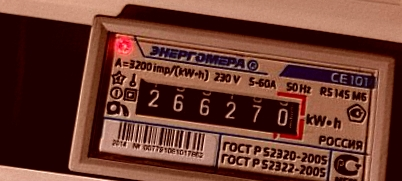0: (275, 106, 291, 127)
2: (145, 87, 163, 109), (223, 99, 239, 121)
6: (171, 91, 187, 114), (198, 96, 214, 118)
7: (248, 103, 263, 123)
screen: (125, 67, 315, 146)
